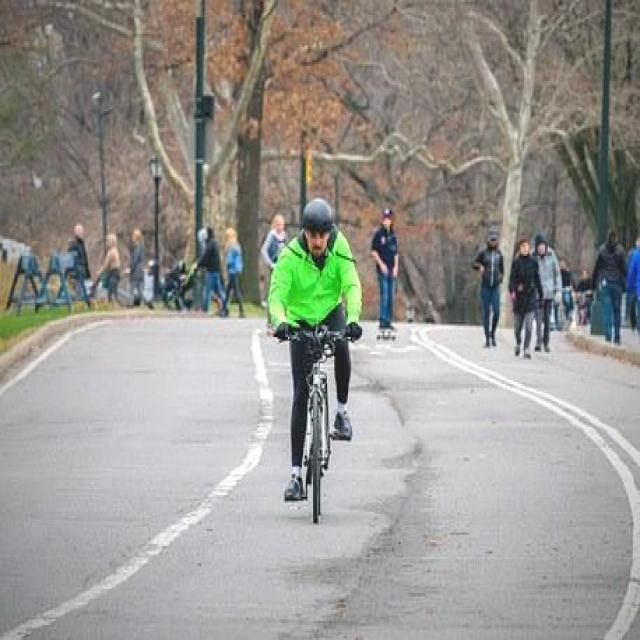bikerider: (255, 190, 368, 527)
